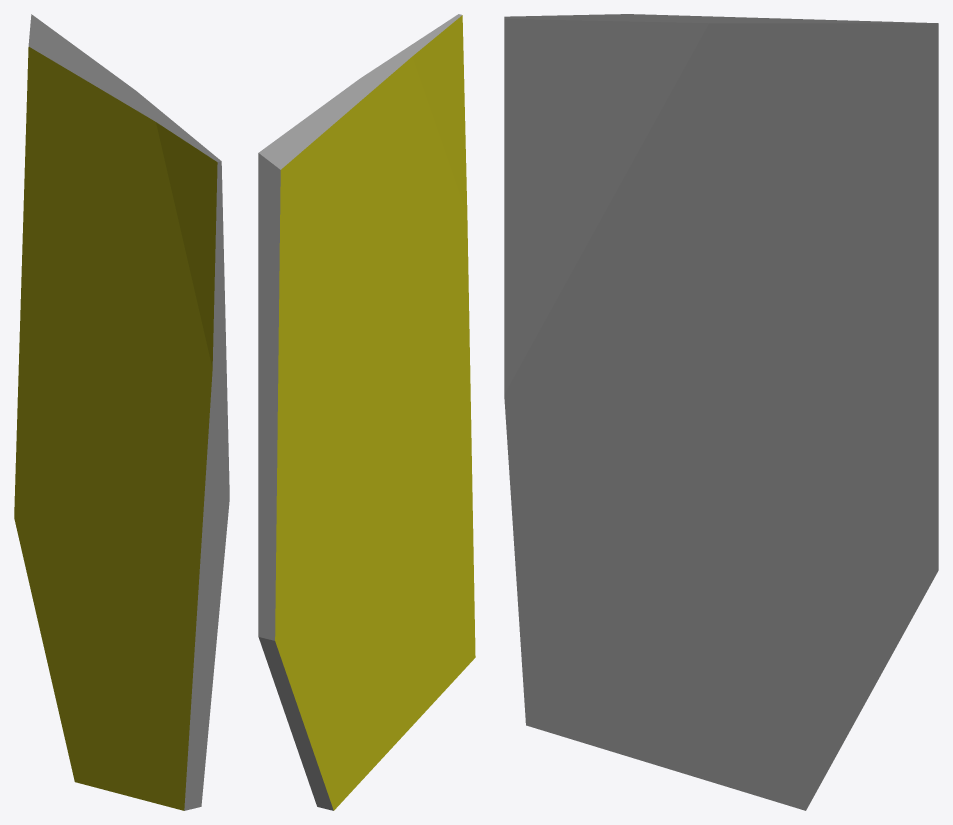
Rendered from debris0.obj.
3 renders of one model, left to right at view 1: azimuth 30°, elevation 25°; view 2: azimuth 150°, elevation 25°; view 3: azimuth 270°, elevation 25°, orthographic. The views are drawn at different scales.
Parts seen in each view (by area): view 1: Cube; view 2: Cube; view 3: Cube.
Part boxes in pixels (x1,y1,x2,y2): Cube: [14, 14, 229, 810]; Cube: [258, 14, 475, 810]; Cube: [504, 14, 938, 810].
Bounding box in the file's own units: 0.0414 × 0.8 × 0.4.
